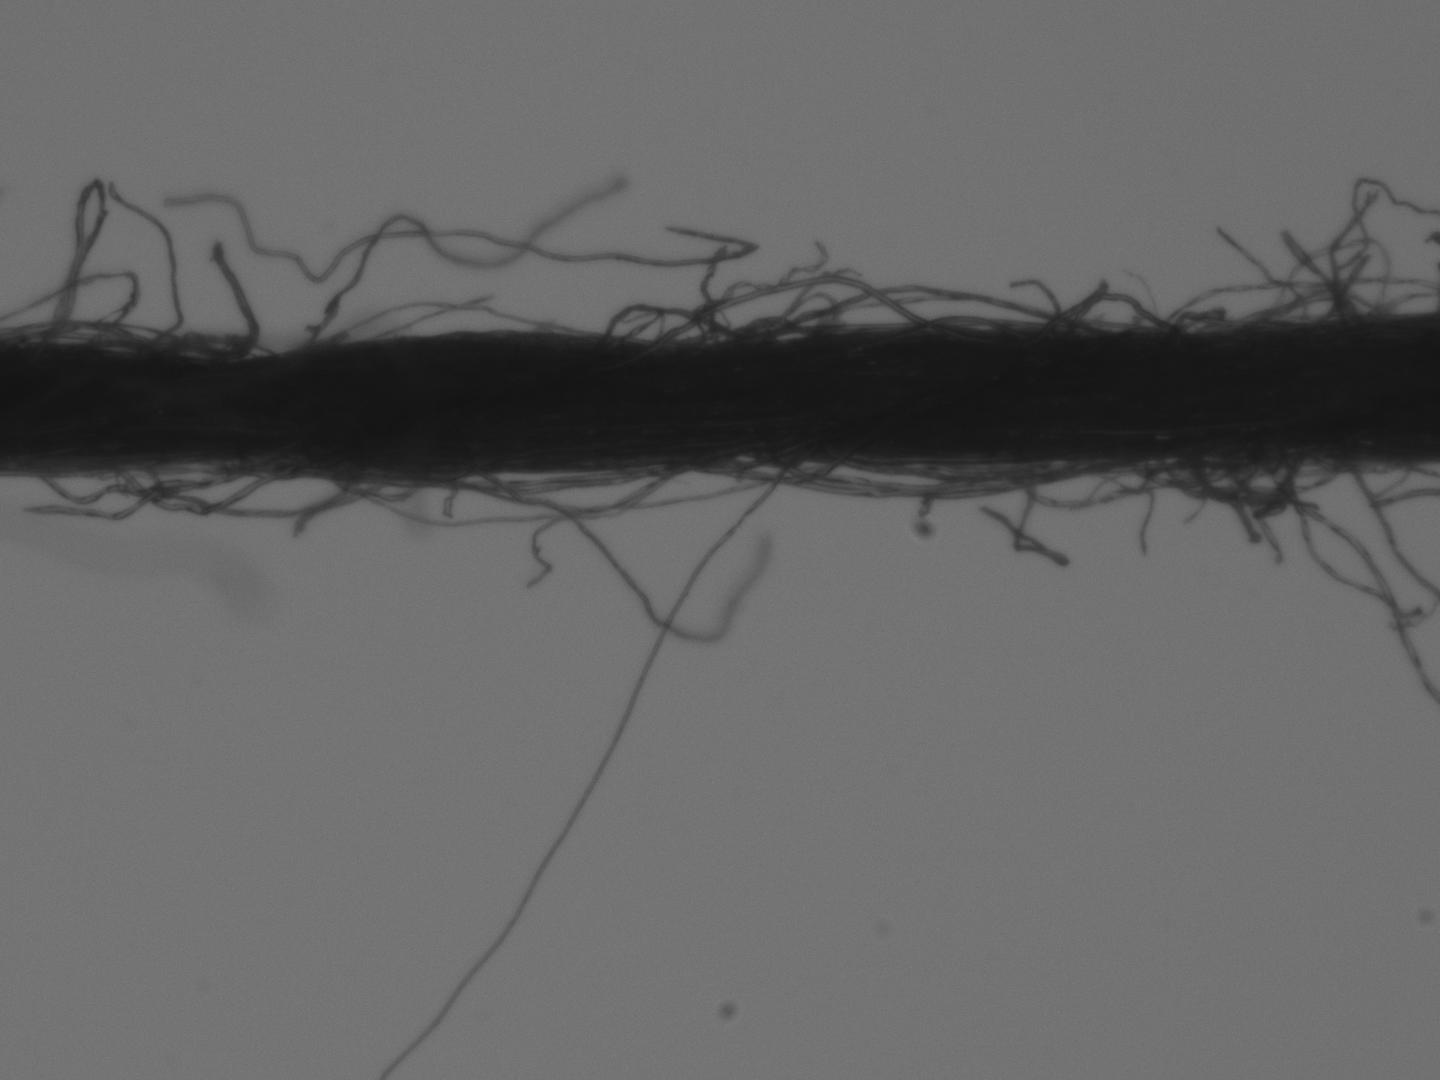loop_fiber: (650, 271, 929, 344), (781, 280, 1085, 334), (481, 458, 681, 520), (113, 459, 282, 516), (1034, 286, 1186, 338), (1245, 286, 1380, 328), (5, 321, 179, 352), (1132, 448, 1242, 488), (602, 306, 729, 340), (1186, 448, 1263, 500), (683, 442, 808, 474), (156, 334, 268, 362), (331, 471, 417, 501)
protruding_fiber: (460, 478, 773, 644), (105, 177, 184, 348), (1213, 219, 1302, 323), (290, 469, 367, 542), (212, 241, 259, 353)
